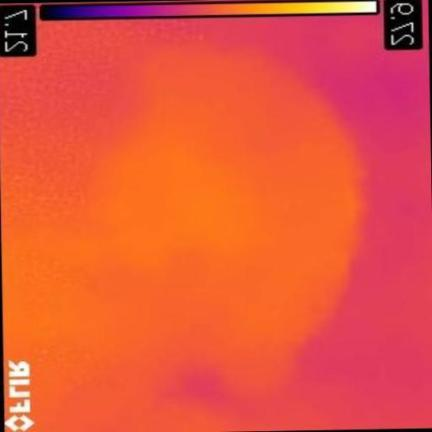mango: (92, 48, 361, 395)
